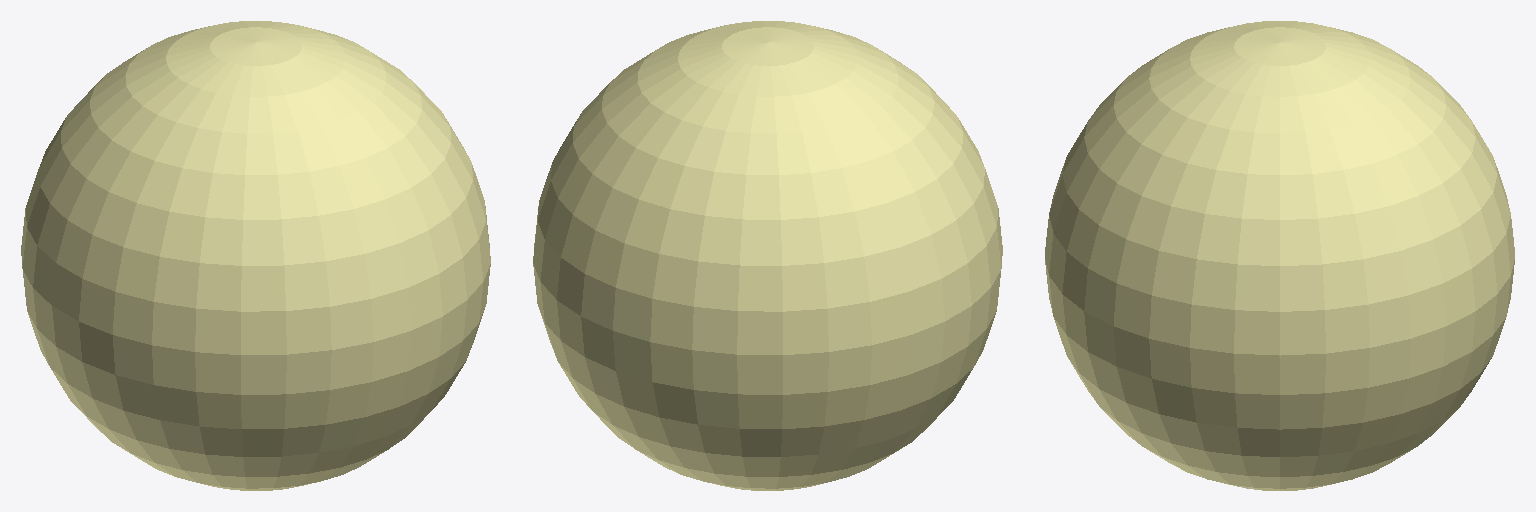
The picture shows the model from 3 angles: view 1: azimuth 30°, elevation 25°; view 2: azimuth 150°, elevation 25°; view 3: azimuth 270°, elevation 25°; orthographic projection.
Parts seen in each view (by area): view 1: Sphere; view 2: Sphere; view 3: Sphere.
Part boxes in pixels (left/top/right/bottom): Sphere: left=21, top=21, right=490, bottom=490; Sphere: left=533, top=21, right=1002, bottom=490; Sphere: left=1045, top=21, right=1514, bottom=490.
Bounding box in the file's own units: 1.97 × 1.97 × 1.97.
1 materials, 1 textured.